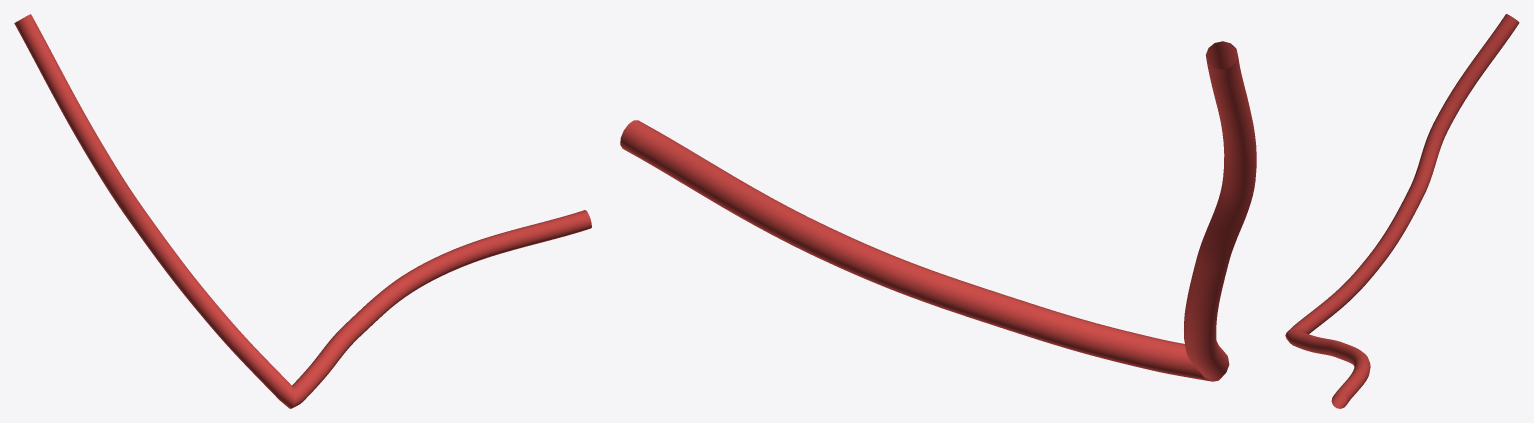
The picture shows the model from 3 angles, left to right: view 1: azimuth 30°, elevation 25°; view 2: azimuth 150°, elevation 25°; view 3: azimuth 270°, elevation 25°; orthographic projection. The views are drawn at different scales.
Parts seen in each view (by area): view 1: 右侧足底弓; view 2: 右侧足底弓; view 3: 右侧足底弓.
Boxes of the visible parts, left/top/right/bottom form: 右侧足底弓: left=14, top=14, right=591, bottom=408; 右侧足底弓: left=620, top=41, right=1256, bottom=381; 右侧足底弓: left=1285, top=14, right=1519, bottom=408.
Bounding box in the file's own units: 0.0653 × 0.0439 × 0.0339.
